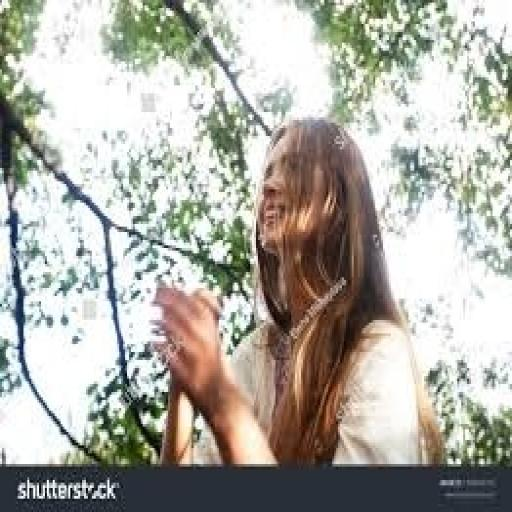clapping: (146, 112, 446, 467)
